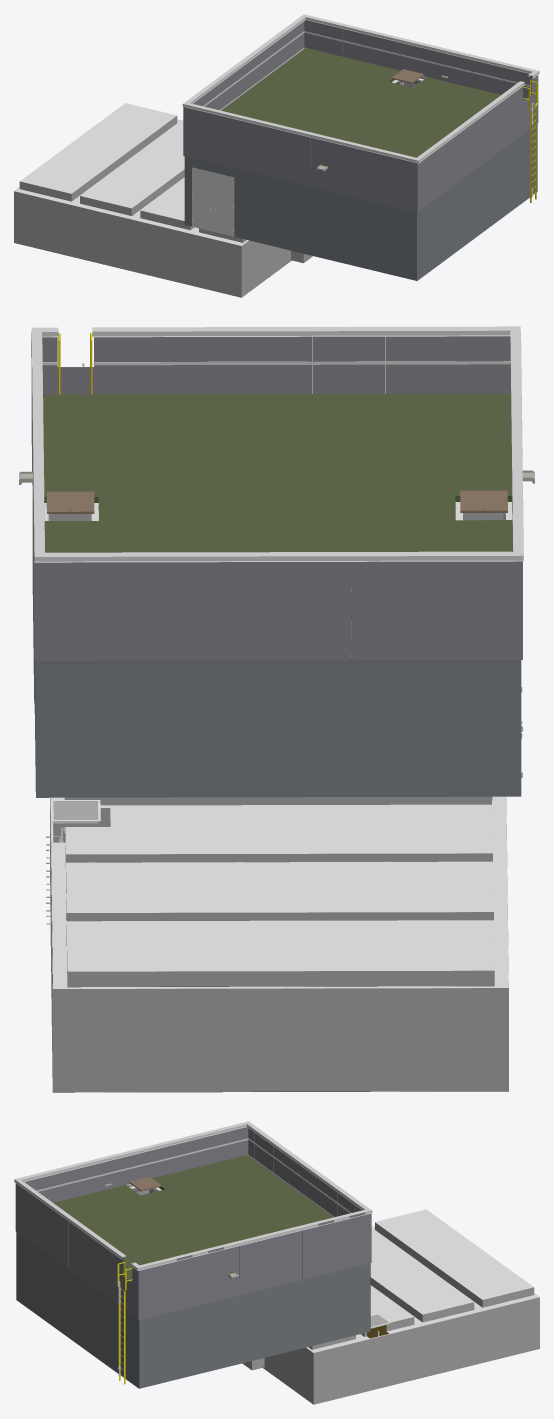
The model's file is pt-109-tanque-hq-p02-v00.glb.
3 renders of one model, top to bottom at view 1: azimuth 30°, elevation 25°; view 2: azimuth 150°, elevation 25°; view 3: azimuth 270°, elevation 25°, orthographic. The views are drawn at different scales.
Visible parts, largest first — view 1: 3v_4KB2UD8hRMYfpgJ2TsH, 1aZ9MF2BXCkgXjiQnt8vX3, 0U6GyOlHPBfBxBZzjGBlLR, 0U6GyOlHPBfBxBZzjGBllQ, 1aZ9MF2BXCkgXjiQnt8vIm, 2Zi8qfzXv2qxdopI9RkPVL, 3v_4KB2UD8hRMYfpYJ2Tte, 3v_4KB2UD8hRMYfpYJ2Ts9, 1aZ9MF2BXCkgXjiQnt8veA, 1aZ9MF2BXCkgXjiQnt8uv2, 1LozM3EDXDdxc2Jx3faPB8, 1LozM3EDXDdxc2Jx3faP1d (+8 smaller); view 2: 3v_4KB2UD8hRMYfpgJ2TsH, 1aZ9MF2BXCkgXjiQnt8vd$, 1OpCWCGuzDxxZv62y2TF$V, 1OpCWCGuzDxxZv62y2TF2p, 1aZ9MF2BXCkgXjiQnt8vIm, 2Zi8qfzXv2qxdopI9RkPVL, 0AIeCBz3P9iA5K8fVMRwDk, 1aZ9MF2BXCkgXjiQnt8uoh, 1aZ9MF2BXCkgXjiQnt8v1w, 1LozM3EDXDdxc2Jx3faP1X, 1LozM3EDXDdxc2Jx3faP1Z, 1aZ9MF2BXCkgXjiQnt8vCx (+70 smaller); view 3: 3v_4KB2UD8hRMYfpgJ2TsH, 0U6GyOlHPBfBxBZzjGBlHu, 0U6GyOlHPBfBxBZzjGBllQ, 1aZ9MF2BXCkgXjiQnt8vcx, 0ulr7FB0HFa9YK0BckpmUi, 1aZ9MF2BXCkgXjiQnt8vIm, 2Zi8qfzXv2qxdopI9RkPVL, 1aZ9MF2BXCkgXjiQnt8vOs, 1aZ9MF2BXCkgXjiQnt8veA, 1LozM3EDXDdxc2Jx3faPB8, 1LozM3EDXDdxc2Jx3faP1d, 1aZ9MF2BXCkgXjiQnt8v1w (+8 smaller).
Part boxes in pixels (x1=…): 3v_4KB2UD8hRMYfpgJ2TsH: x1=221, y1=48, x2=523, y2=166; 1aZ9MF2BXCkgXjiQnt8vX3: x1=14, y1=191, x2=241, y2=297; 0U6GyOlHPBfBxBZzjGBlLR: x1=281, y1=179, x2=416, y2=280; 0U6GyOlHPBfBxBZzjGBllQ: x1=416, y1=124, x2=537, y2=280; 1aZ9MF2BXCkgXjiQnt8vIm: x1=20, y1=103, x2=176, y2=193; 2Zi8qfzXv2qxdopI9RkPVL: x1=80, y1=119, x2=184, y2=208; 3v_4KB2UD8hRMYfpYJ2Tte: x1=190, y1=158, x2=280, y2=247; 3v_4KB2UD8hRMYfpYJ2Ts9: x1=192, y1=167, x2=234, y2=236; 1aZ9MF2BXCkgXjiQnt8veA: x1=241, y1=240, x2=291, y2=297; 1aZ9MF2BXCkgXjiQnt8uv2: x1=19, y1=181, x2=242, y2=242; 1LozM3EDXDdxc2Jx3faPB8: x1=182, y1=103, x2=418, y2=163; 1LozM3EDXDdxc2Jx3faP1d: x1=304, y1=14, x2=538, y2=73; 3v_4KB2UD8hRMYfpgJ2TsH: x1=43, y1=393, x2=512, y2=620; 1aZ9MF2BXCkgXjiQnt8vd$: x1=52, y1=988, x2=508, y2=1092; 1OpCWCGuzDxxZv62y2TF$V: x1=49, y1=660, x2=277, y2=797; 1OpCWCGuzDxxZv62y2TF2p: x1=289, y1=638, x2=508, y2=797; 1aZ9MF2BXCkgXjiQnt8vIm: x1=66, y1=920, x2=494, y2=971; 2Zi8qfzXv2qxdopI9RkPVL: x1=66, y1=861, x2=493, y2=912; 0AIeCBz3P9iA5K8fVMRwDk: x1=65, y1=804, x2=492, y2=854; 1aZ9MF2BXCkgXjiQnt8uoh: x1=67, y1=970, x2=494, y2=986; 1aZ9MF2BXCkgXjiQnt8v1w: x1=50, y1=796, x2=508, y2=988; 1LozM3EDXDdxc2Jx3faP1X: x1=34, y1=551, x2=523, y2=562; 1LozM3EDXDdxc2Jx3faP1Z: x1=92, y1=326, x2=519, y2=337; 1aZ9MF2BXCkgXjiQnt8vCx: x1=66, y1=912, x2=493, y2=921; 3v_4KB2UD8hRMYfpgJ2TsH: x1=53, y1=1155, x2=333, y2=1281; 0U6GyOlHPBfBxBZzjGBlHu: x1=139, y1=1287, x2=274, y2=1388; 0U6GyOlHPBfBxBZzjGBllQ: x1=16, y1=1232, x2=139, y2=1388; 1aZ9MF2BXCkgXjiQnt8vcx: x1=385, y1=1297, x2=539, y2=1386; 0ulr7FB0HFa9YK0BckpmUi: x1=274, y1=1264, x2=365, y2=1354; 1aZ9MF2BXCkgXjiQnt8vIm: x1=375, y1=1209, x2=533, y2=1299; 2Zi8qfzXv2qxdopI9RkPVL: x1=370, y1=1228, x2=473, y2=1314; 1aZ9MF2BXCkgXjiQnt8vOs: x1=313, y1=1335, x2=385, y2=1404; 1aZ9MF2BXCkgXjiQnt8veA: x1=263, y1=1347, x2=313, y2=1404; 1LozM3EDXDdxc2Jx3faPB8: x1=14, y1=1121, x2=248, y2=1181; 1LozM3EDXDdxc2Jx3faP1d: x1=137, y1=1209, x2=371, y2=1270; 1aZ9MF2BXCkgXjiQnt8v1w: x1=306, y1=1226, x2=539, y2=1352.
Bounding box in the file's own units: 18.2 × 8.35 × 21.67.
